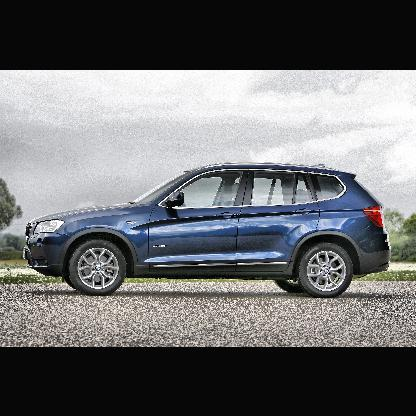BMW X3 SUV 2012: (23, 161, 393, 299)
